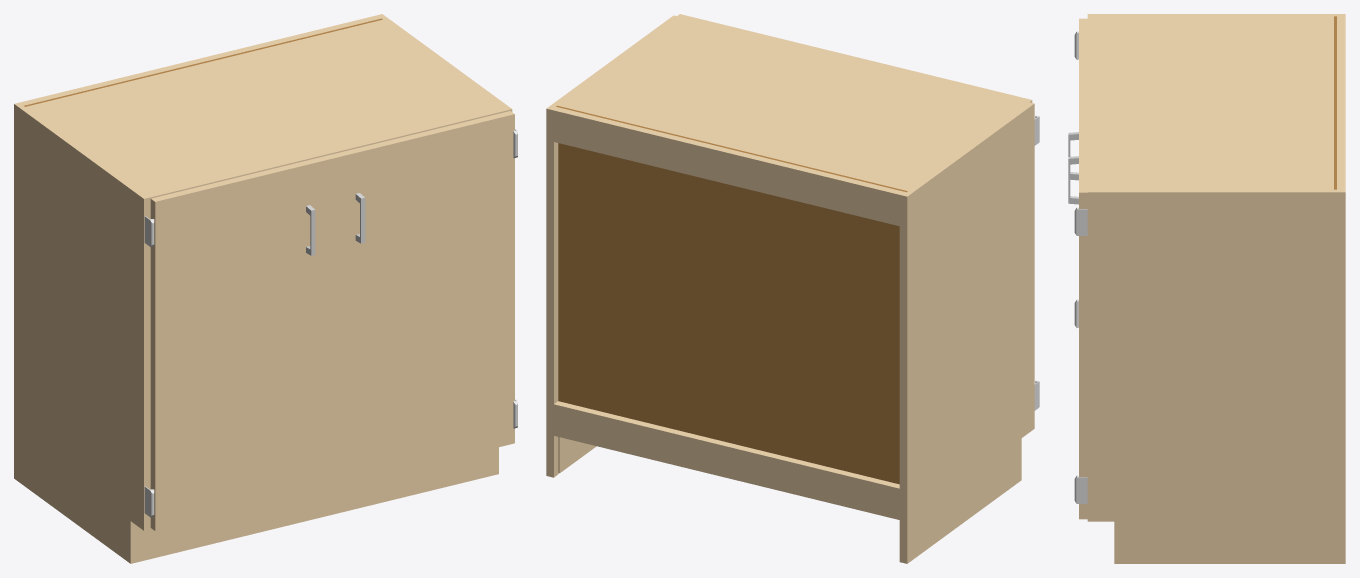
File: base_cabinet_36a.gltf
3 views of the same model, side by side, from view 1: azimuth 30°, elevation 25°; view 2: azimuth 150°, elevation 25°; view 3: azimuth 270°, elevation 25° (orthographic). The views are drawn at different scales.
Parts seen in each view (by area): view 1: Mesh_12, Mesh_14, Mesh_4, Mesh_6, Mesh_7, Mesh_0, Mesh_3, Mesh_1; view 2: Mesh_1, Mesh_4, Mesh_6, Mesh_0, Mesh_2, Mesh_3, Mesh_12, Mesh_14; view 3: Mesh_3, Mesh_6, Mesh_14, Mesh_0, Mesh_4, Mesh_12, Mesh_1, Hinge.002, Hinge.003.
Boxes of the visible parts, x1,y1,x2,y2 form: Mesh_12: (150, 154, 337, 530); Mesh_14: (328, 111, 514, 486); Mesh_4: (14, 102, 151, 563); Mesh_6: (28, 20, 504, 198); Mesh_7: (130, 447, 498, 563); Mesh_0: (22, 16, 378, 104); Mesh_3: (375, 14, 512, 111); Mesh_1: (24, 18, 382, 106); Mesh_1: (556, 105, 907, 484); Mesh_4: (899, 101, 1034, 563); Mesh_6: (560, 17, 1026, 190); Mesh_0: (554, 107, 903, 226); Mesh_2: (554, 401, 899, 519); Mesh_3: (546, 15, 680, 477); Mesh_12: (851, 57, 1032, 102); Mesh_14: (677, 14, 858, 58); Mesh_3: (1087, 188, 1345, 563); Mesh_6: (1087, 17, 1333, 188); Mesh_14: (1079, 105, 1087, 519); Mesh_0: (1337, 17, 1345, 188); Mesh_4: (1087, 14, 1345, 17); Mesh_12: (1079, 18, 1087, 106); Mesh_1: (1334, 16, 1336, 189); Hinge.002: (1074, 475, 1087, 503); Hinge.003: (1074, 207, 1087, 235).
Size of the model in its own units: 0.9144 by 0.889 by 0.601.
